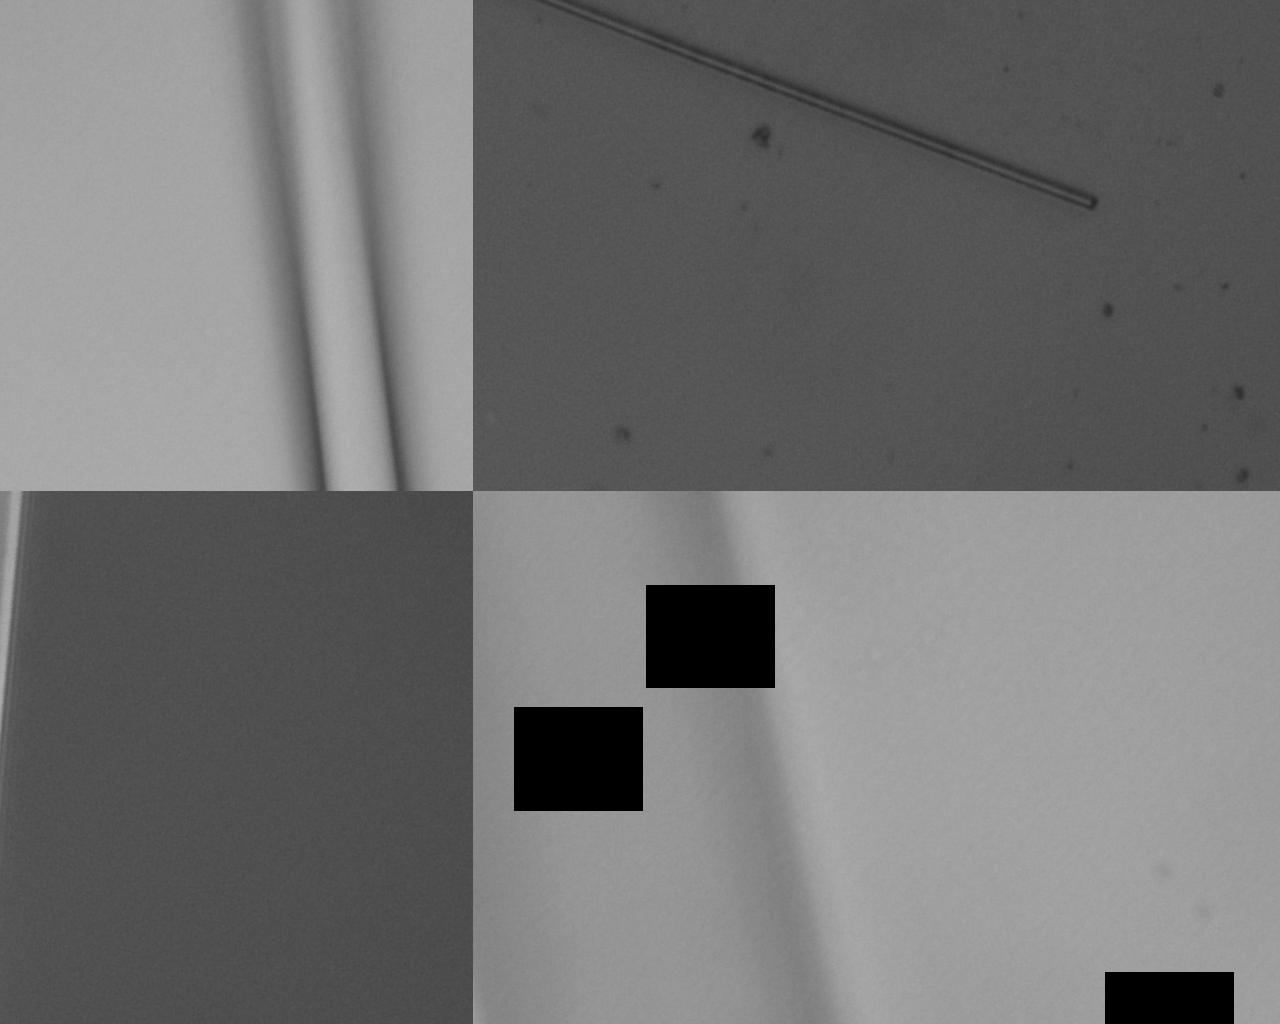fiber: (127, 0, 1151, 66)
